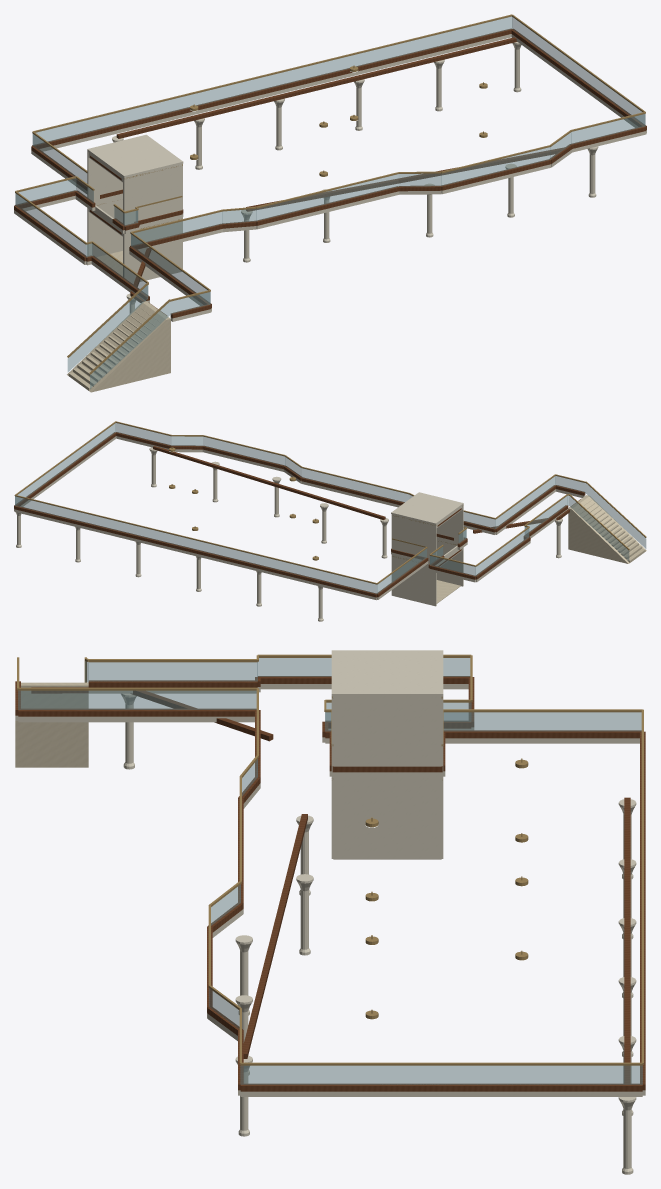
The model's file is AST-DIN-004.glb.
3 renders of one model, top to bottom at view 1: azimuth 30°, elevation 25°; view 2: azimuth 150°, elevation 25°; view 3: azimuth 270°, elevation 25°, orthographic. The views are drawn at different scales.
Visible parts, largest first — view 1: MEZ_GuardGlass_5, MEZ_LiftShaftSide_1, MEZ_StairCarcass, MEZ_GuardPlinth_5, MEZ_LiftShaftSide_-1, MEZ_VisibleEdgeGirder_0, MEZ_LiftClosedCap, MEZ_ProfiledEdge_5, MEZ_GuardGlass_22, MEZ_GuardGlass_4, MEZ_VisibleEdgeGirder_1, MEZ_GuardGlass_1 (+17 smaller); view 2: MEZ_GuardGlass_5, MEZ_LiftShaftSide_-1, MEZ_StairCarcass, MEZ_GuardPlinth_5, MEZ_LiftShaftSide_1, MEZ_LiftClosedCap, MEZ_ProfiledEdge_5, MEZ_VisibleEdgeGirder_1, MEZ_GuardGlass_22, MEZ_GuardGlass_4, MEZ_GuardCap_5, MEZ_GuardGlass_1 (+18 smaller); view 3: MEZ_LiftShaftRear, MEZ_GuardGlass_4, MEZ_LiftClosedCap, MEZ_GuardGlass_19, MEZ_StairCarcass, MEZ_GuardGlass_6, MEZ_GuardPlinth_4, MEZ_GuardGlass_17, MEZ_ProfiledEdge_4, MEZ_GuardPlinth_19, MEZ_VisibleEdgeGirder_0, MEZ_VisibleEdgeGirder_1 (+15 smaller).
Part boxes in pixels (<box>): MEZ_GuardGlass_5: <box>33,16,511,145</box>; MEZ_LiftShaftSide_1: <box>123,161,182,283</box>; MEZ_StairCarcass: <box>67,301,170,392</box>; MEZ_GuardPlinth_5: <box>32,28,511,148</box>; MEZ_LiftShaftSide_-1: <box>87,135,145,256</box>; MEZ_VisibleEdgeGirder_0: <box>116,37,516,138</box>; MEZ_LiftClosedCap: <box>88,134,183,176</box>; MEZ_ProfiledEdge_5: <box>39,34,511,151</box>; MEZ_GuardGlass_22: <box>256,174,398,220</box>; MEZ_GuardGlass_4: <box>512,17,645,125</box>; MEZ_VisibleEdgeGirder_1: <box>246,147,564,211</box>; MEZ_GuardGlass_1: <box>441,147,549,185</box>; MEZ_GuardGlass_5: <box>15,496,376,593</box>; MEZ_LiftShaftSide_-1: <box>391,512,436,606</box>; MEZ_StairCarcass: <box>568,495,646,563</box>; MEZ_GuardPlinth_5: <box>14,505,376,597</box>; MEZ_LiftShaftSide_1: <box>419,492,463,586</box>; MEZ_LiftClosedCap: <box>391,492,463,524</box>; MEZ_ProfiledEdge_5: <box>14,509,376,600</box>; MEZ_VisibleEdgeGirder_1: <box>153,446,385,519</box>; MEZ_GuardGlass_22: <box>302,468,409,502</box>; MEZ_GuardGlass_4: <box>15,423,115,505</box>; MEZ_GuardCap_5: <box>15,495,376,584</box>; MEZ_GuardGlass_1: <box>203,436,284,465</box>; MEZ_LiftShaftRear: <box>333,692,441,859</box>; MEZ_GuardGlass_4: <box>241,1065,642,1084</box>; MEZ_LiftClosedCap: <box>331,650,443,696</box>; MEZ_GuardGlass_19: <box>18,690,256,709</box>; MEZ_StairCarcass: <box>15,682,88,767</box>; MEZ_GuardGlass_6: <box>443,712,641,731</box>; MEZ_GuardPlinth_4: <box>240,1083,642,1091</box>; MEZ_GuardGlass_17: <box>89,662,257,681</box>; MEZ_ProfiledEdge_4: <box>240,1091,642,1096</box>; MEZ_GuardPlinth_19: <box>18,708,256,716</box>; MEZ_VisibleEdgeGirder_0: <box>624,797,630,1083</box>; MEZ_VisibleEdgeGirder_1: <box>243,814,307,1058</box>.
Size of the model in its own units: 42.86 by 7.09 by 24.42.
6 materials, 4 textured.
